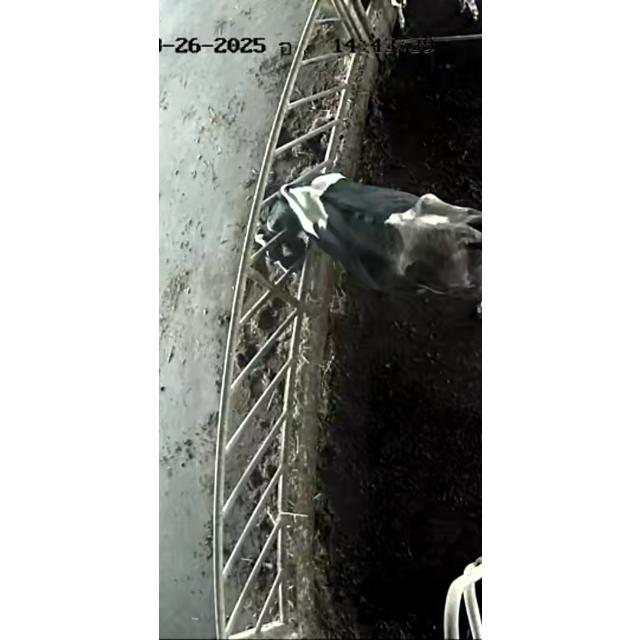eat: (200, 159, 398, 283)
